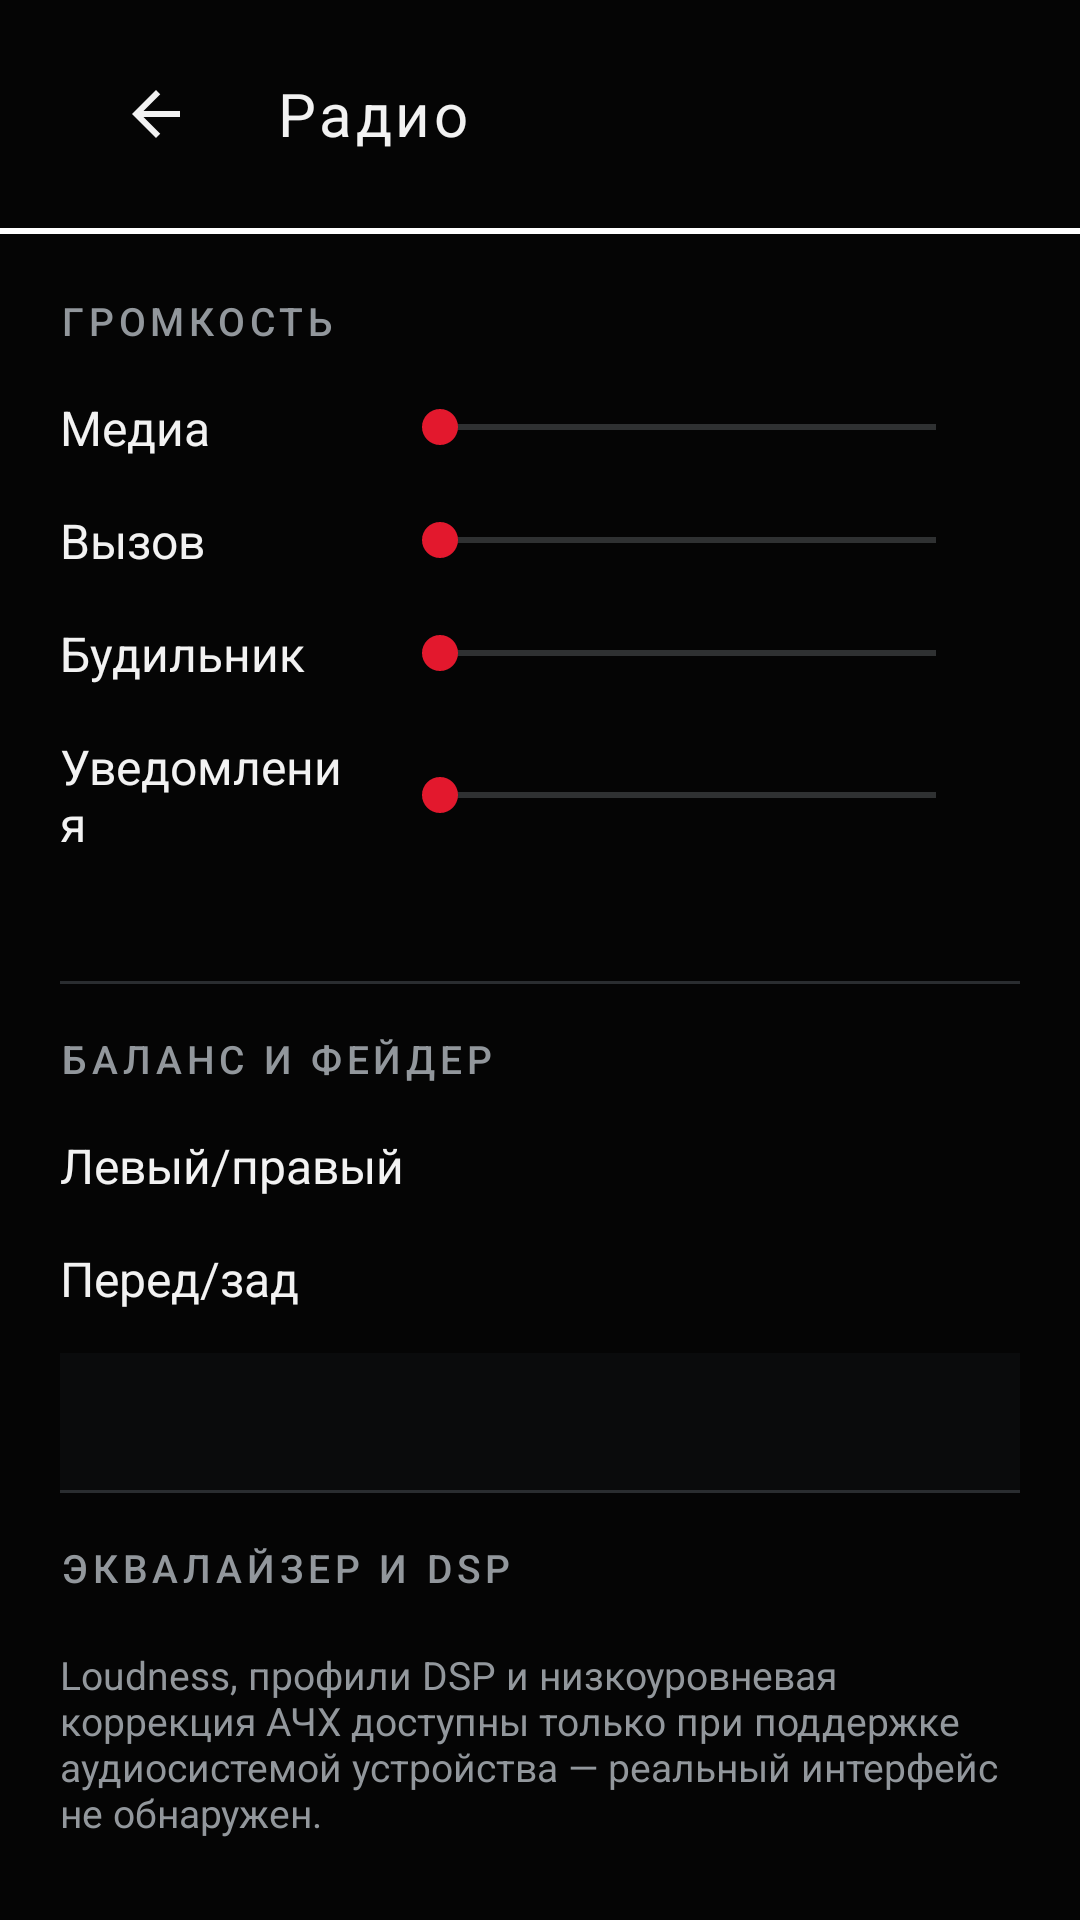

Named icons in this screenshot (1080px x 1920px) and their centers, point (x, y):
Назад: point (156, 114)
